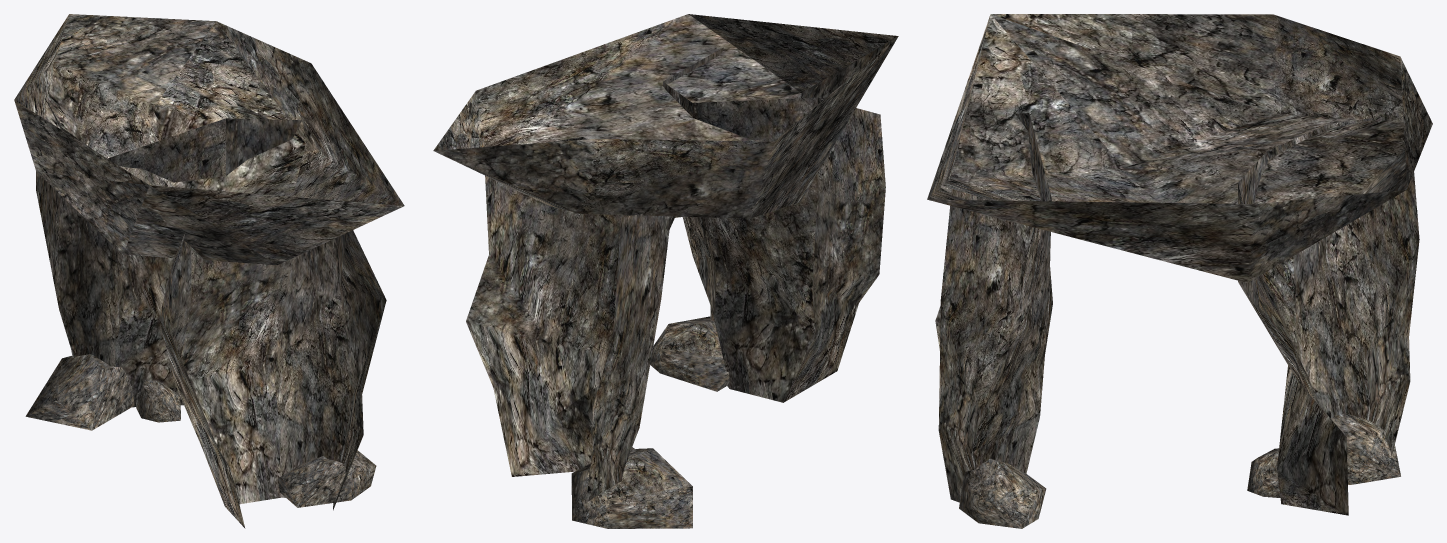
The model's file is cave_cap_1.fbx.
The picture shows the model from 3 angles, left to right: view 1: azimuth 30°, elevation 25°; view 2: azimuth 150°, elevation 25°; view 3: azimuth 270°, elevation 25°; orthographic projection. The views are drawn at different scales.
Visible parts, largest first — view 1: cavecap1; view 2: cavecap1; view 3: cavecap1.
Boxes of the visible parts, box(x1,y1,x2,y2) form: cavecap1: box(14, 14, 404, 528); cavecap1: box(433, 14, 898, 528); cavecap1: box(927, 14, 1432, 528).
Size of the model in its own units: 8111 by 9912 by 10971.
1 material, 1 textured.
